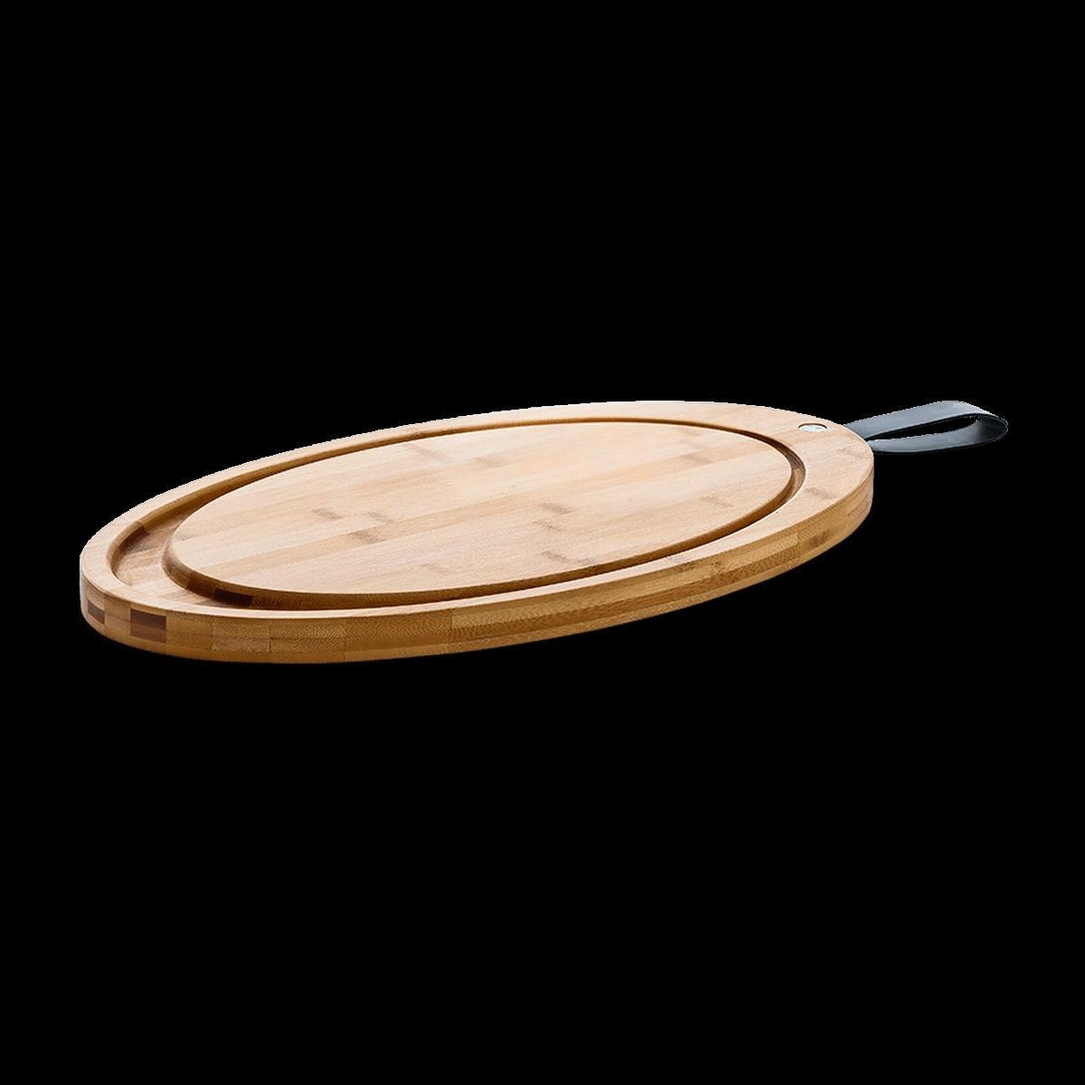gloved_hand: (57, 364, 1021, 670)
